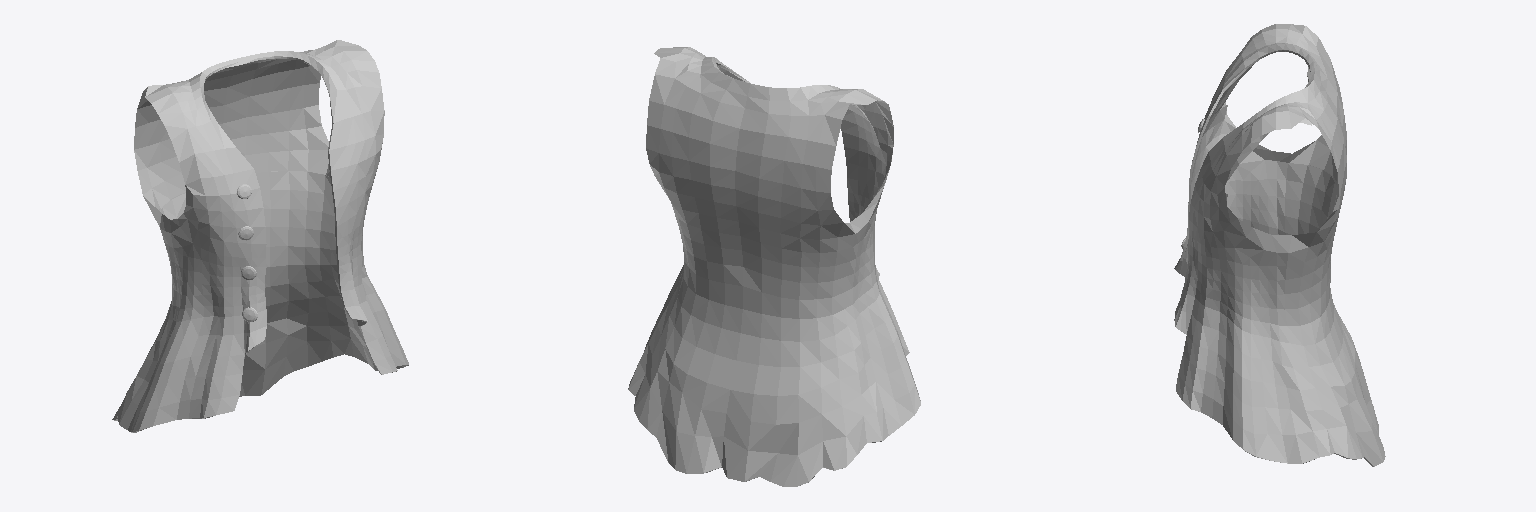
Rendered from luffy_cloth.obj.
The picture shows the model from 3 angles: view 1: azimuth 30°, elevation 25°; view 2: azimuth 150°, elevation 25°; view 3: azimuth 270°, elevation 25°; orthographic projection.
Parts seen in each view (by area): view 1: polySurface3; view 2: polySurface3; view 3: polySurface3.
Part boxes in pixels (x1,y1,x2,y2): polySurface3: (112,40,408,432); polySurface3: (628,47,920,486); polySurface3: (1174,24,1385,466).
Bounding box in the file's own units: 0.2356 × 0.3115 × 0.1593.